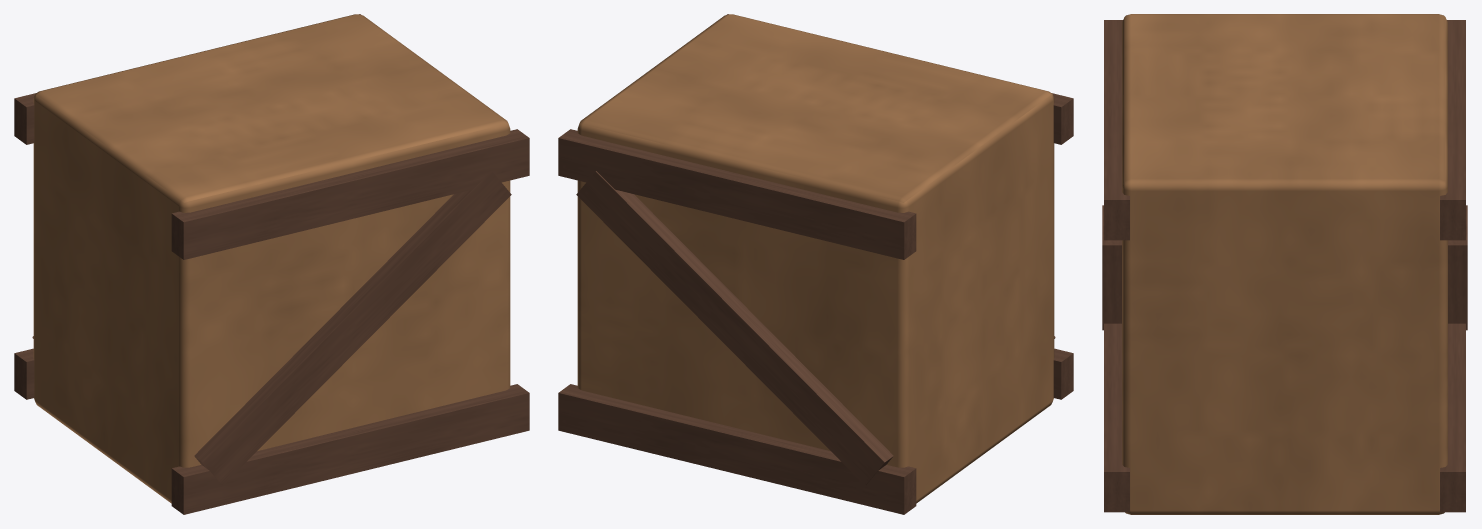
Rendered from Crate.glb.
3 views of the same model, side by side, from view 1: azimuth 30°, elevation 25°; view 2: azimuth 150°, elevation 25°; view 3: azimuth 270°, elevation 25° (orthographic). The views are drawn at different scales.
Visible parts, largest first — view 1: Crate body, Brace, Batten.001, Batten, Batten.003, Batten.002; view 2: Crate body, Brace.001, Batten.003, Batten.002, Batten.001, Batten; view 3: Crate body, Batten.001, Batten.003, Batten, Batten.002, Brace, Brace.001.
Part boxes in pixels (x1,y1,x2,y2): Crate body: (33,14,510,503); Brace: (194,171,511,485); Batten.001: (171,129,529,259); Batten: (171,384,529,514); Batten.003: (14,14,360,144); Batten.002: (14,348,34,399); Crate body: (577,14,1054,503); Brace.001: (576,171,893,485); Batten.003: (558,129,916,259); Batten.002: (558,384,916,514); Batten.001: (727,14,1073,144); Batten: (1053,348,1073,399); Crate body: (1122,14,1447,514); Batten.001: (1104,20,1129,240); Batten.003: (1440,20,1465,240); Batten: (1104,323,1129,512); Batten.002: (1440,323,1465,512); Brace: (1102,205,1121,330); Brace.001: (1448,205,1467,330).
Bounding box in the file's own units: 1.15 × 1 × 0.985.
Materials: 2 (2 with a texture image).
